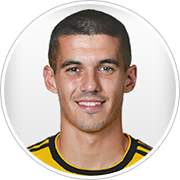face: (42, 41, 139, 123)
